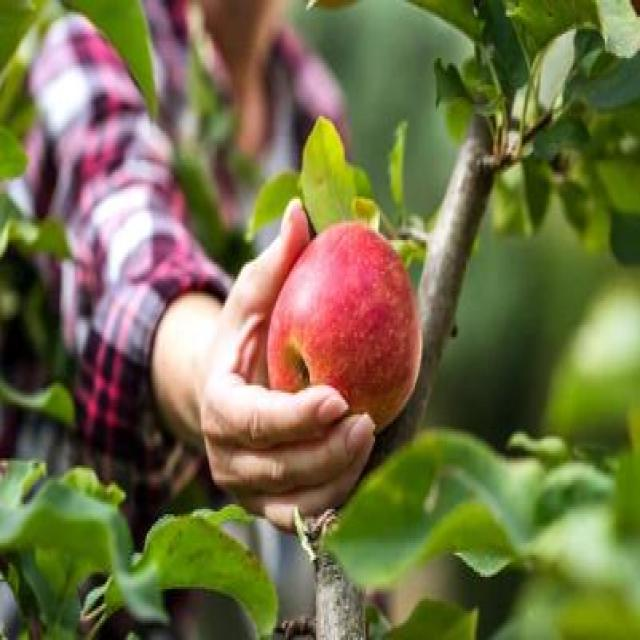fruit: (256, 205, 428, 454)
